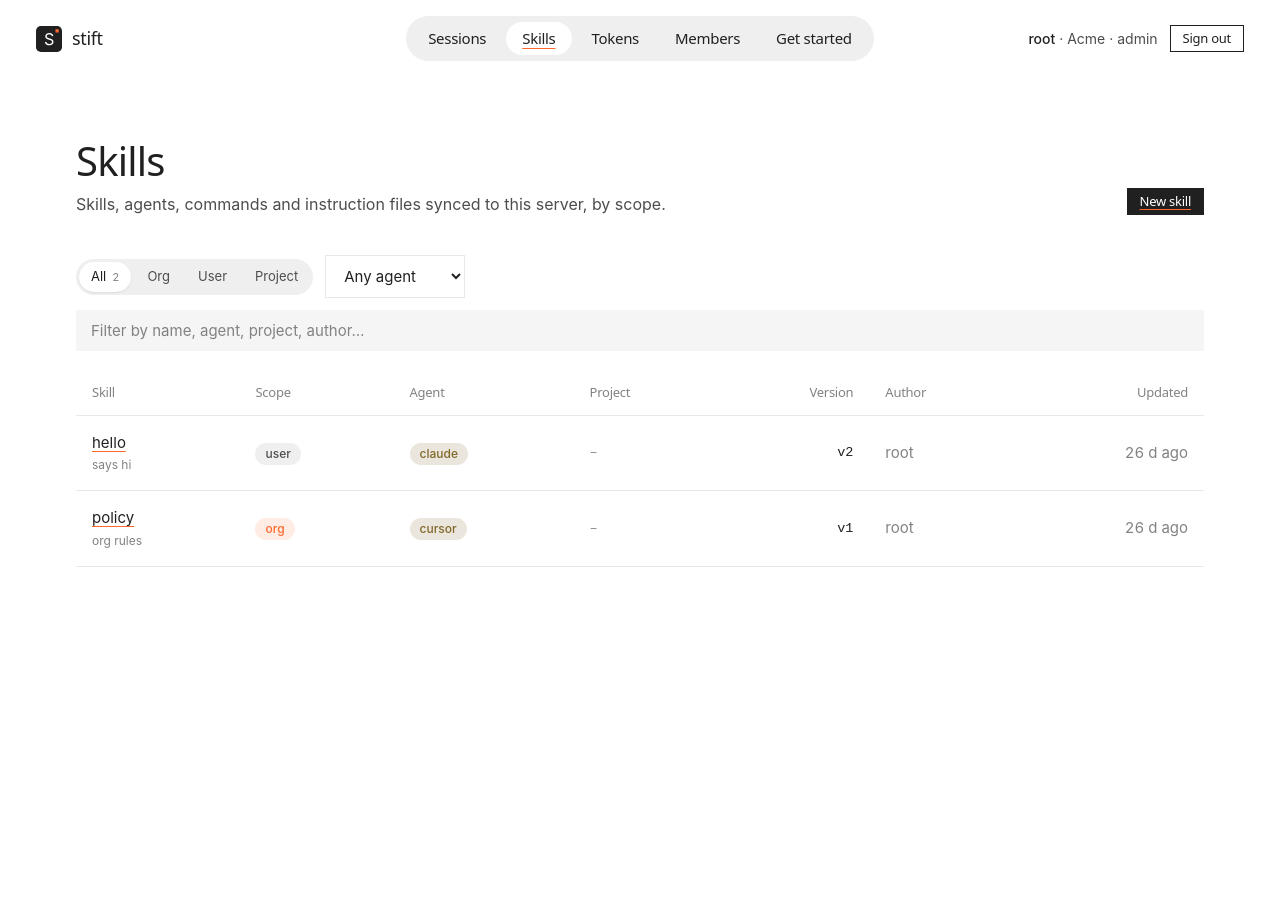
it: lists skills and filters scope and agent through the query string
Check: the link "hello" is shown, box [92,433,126,452]
Check: the link "policy" is shown, box [92,508,134,527]
Click the tab "Org": (159, 277) [135,262,182,292]
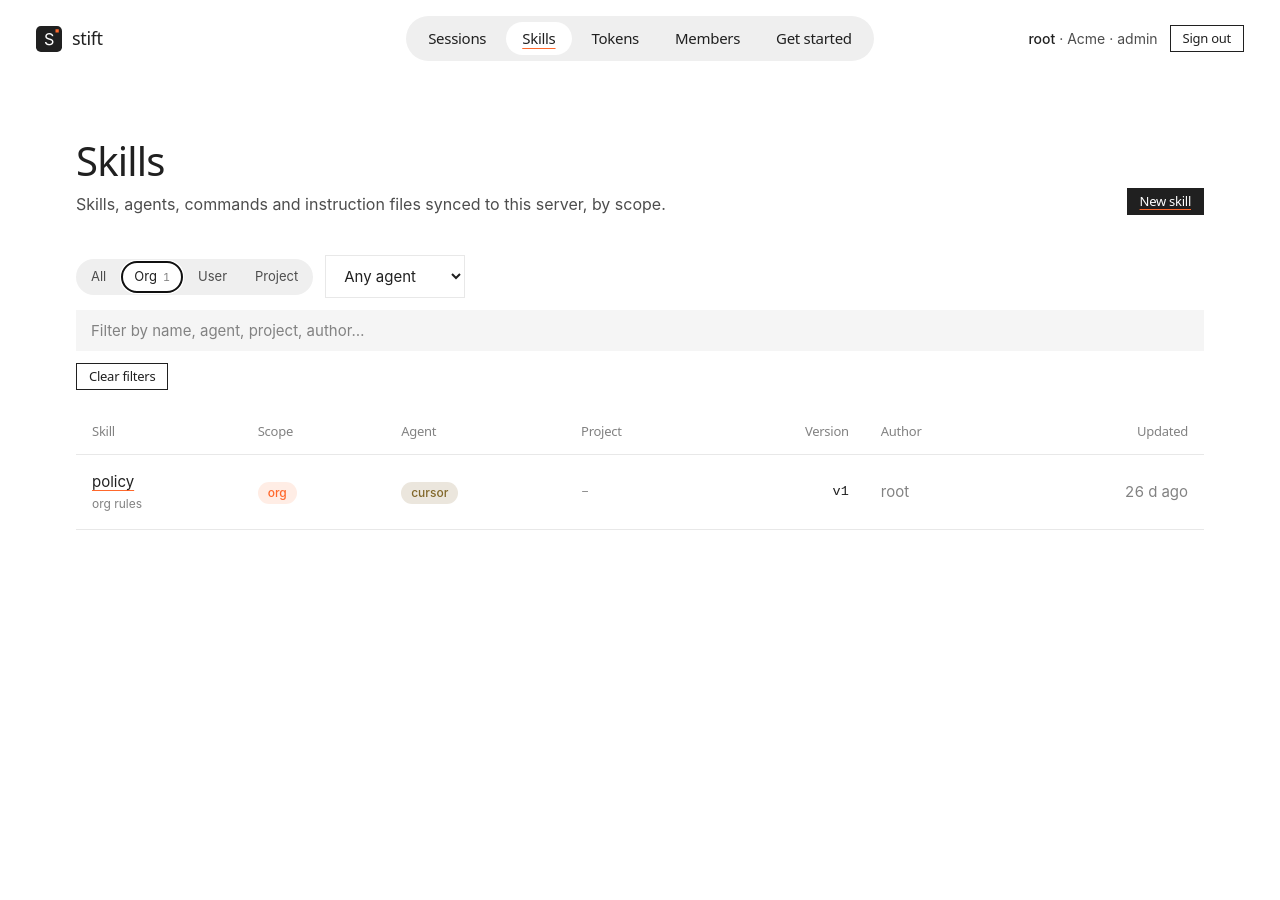
Check: the text "org" is shown, box [258,482,297,504]
Check: the link "hello" is gone
Select "cursor" in the dropdown named "Agent": (395, 277) [325,255,465,298]
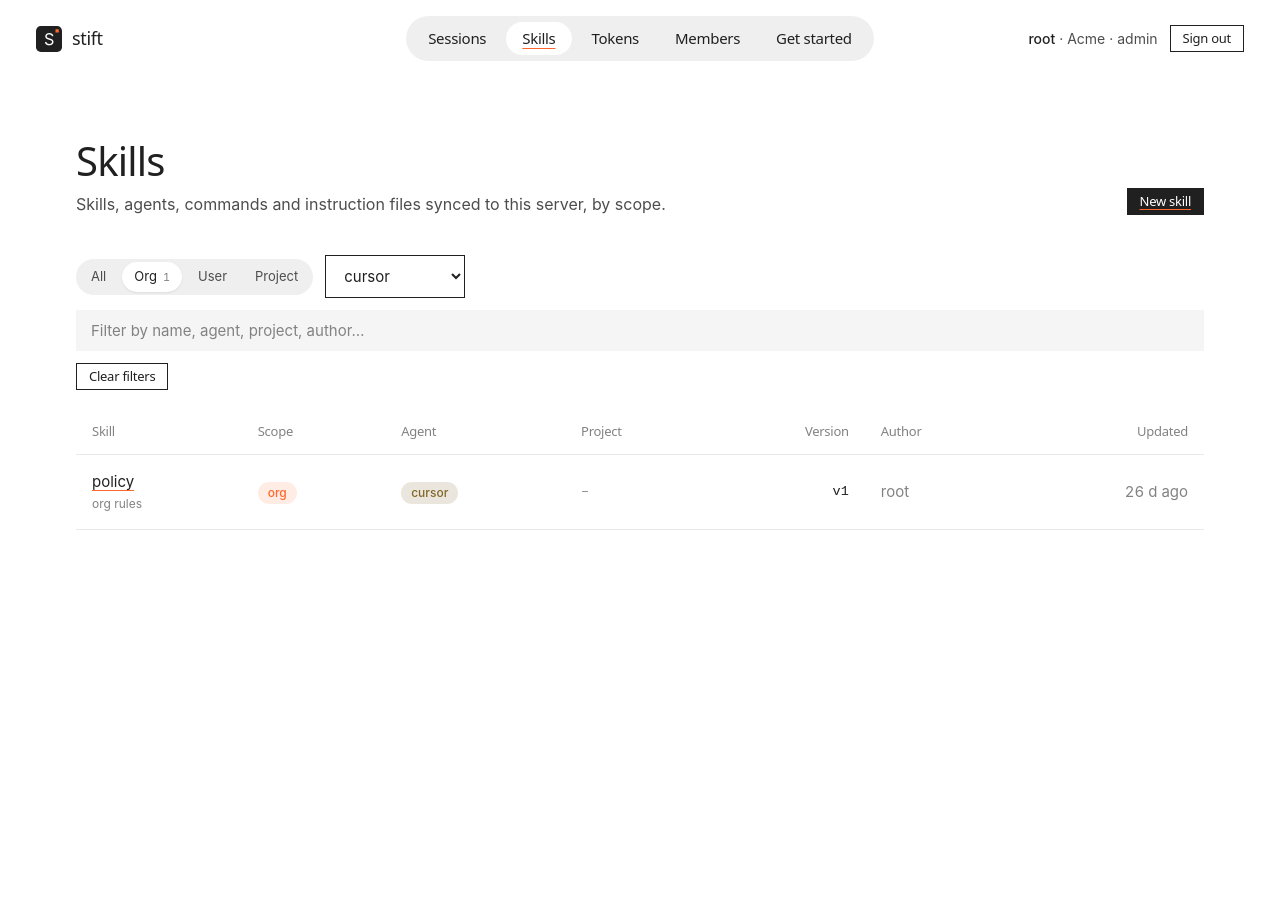
Check: the link "policy" is shown, box [92,472,134,491]
In the search field named "Search": (640, 331) [76,310,1204,351], type "zzz"
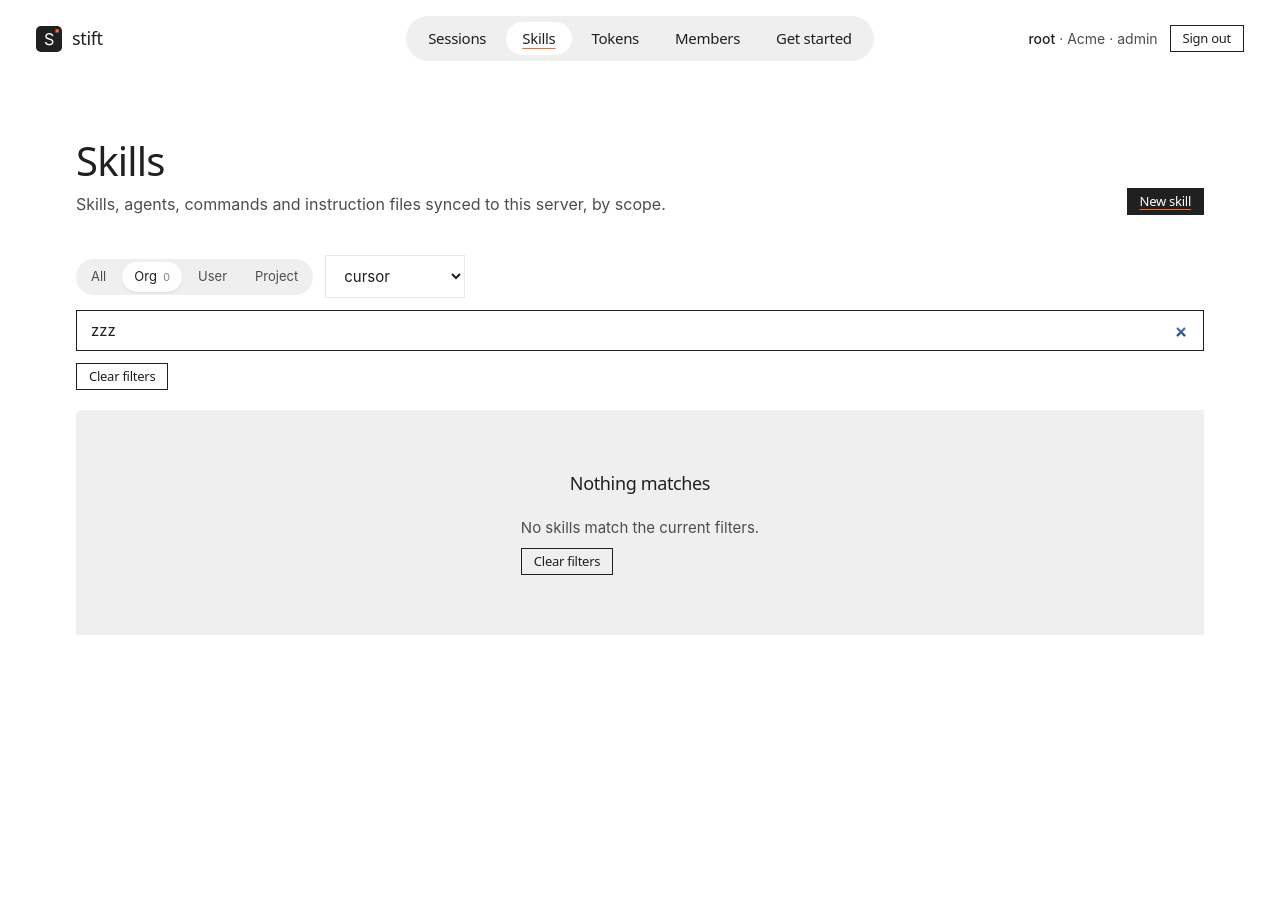
Check: the text "Nothing matches" is shown, box [570,470,710,497]
Click the button "Clear filters" below "No skills match the current filters.": (567, 561) [521,548,613,575]
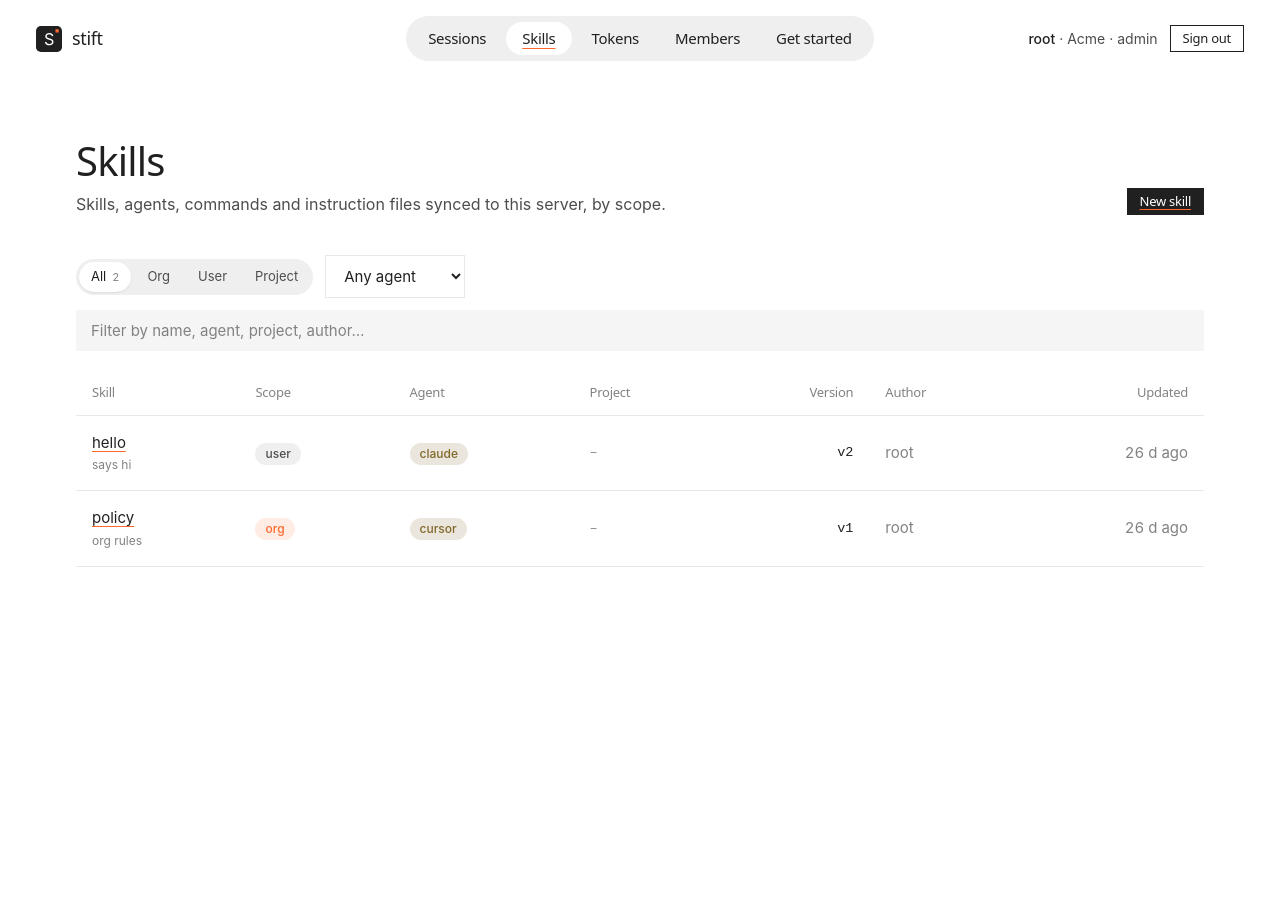
Check: the link "hello" is shown, box [92,433,126,452]
